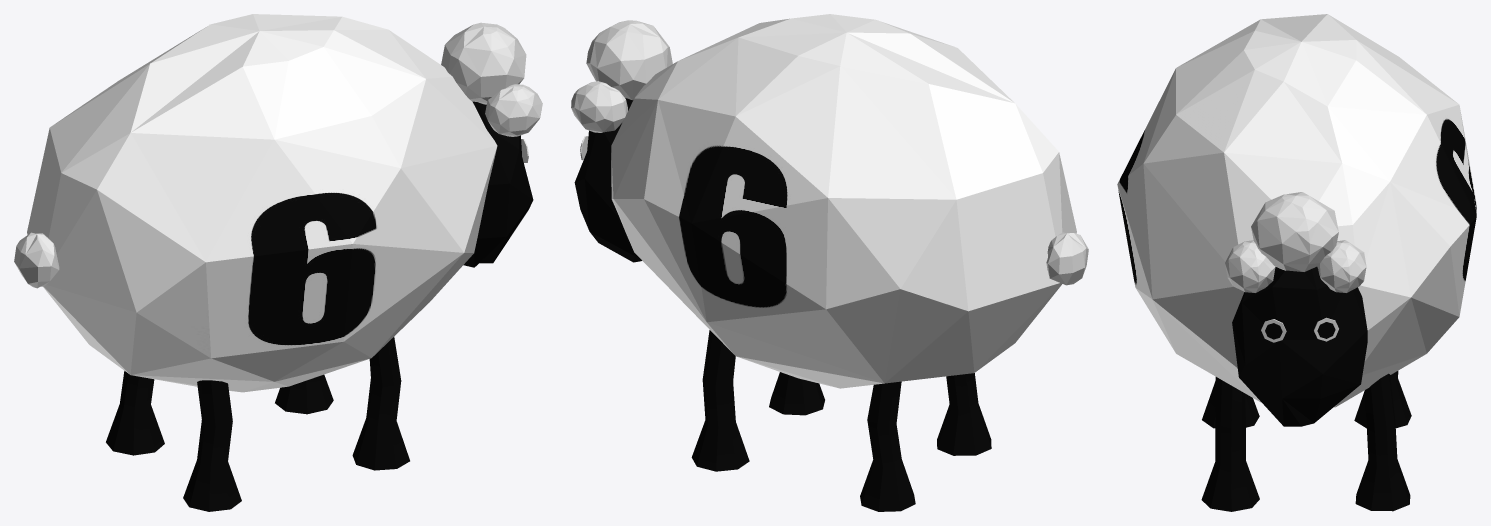
File: sheep6.fbx
3 views of the same model, side by side, from view 1: azimuth 30°, elevation 25°; view 2: azimuth 150°, elevation 25°; view 3: azimuth 270°, elevation 25° (orthographic).
Parts seen in each view (by area): view 1: pSphere1, pSphere7, pSphere4, pCylinder1, pCylinder5, pCylinder7, pSphere8, pSphere3, pCylinder6; view 2: pSphere1, pCylinder6, pSphere7, pCylinder7, pSphere4, pCylinder1, pSphere9, pSphere3, pCylinder5; view 3: pSphere1, pSphere4, pSphere7, pCylinder5, pCylinder6, pSphere8, pSphere9, pCylinder7, pCylinder1.
Boxes of the visible parts, x1=… form: pSphere1: x1=27, y1=14, x2=497, y2=392; pSphere7: x1=441, y1=22, x2=526, y2=104; pSphere4: x1=463, y1=101, x2=533, y2=267; pCylinder1: x1=183, y1=380, x2=241, y2=511; pCylinder5: x1=352, y1=337, x2=409, y2=470; pCylinder7: x1=106, y1=371, x2=164, y2=455; pSphere8: x1=485, y1=84, x2=542, y2=136; pSphere3: x1=14, y1=232, x2=59, y2=288; pCylinder6: x1=275, y1=374, x2=333, y2=414; pSphere1: x1=611, y1=14, x2=1076, y2=388; pCylinder6: x1=691, y1=330, x2=749, y2=471; pSphere7: x1=586, y1=20, x2=672, y2=100; pCylinder7: x1=860, y1=381, x2=915, y2=511; pSphere4: x1=574, y1=98, x2=641, y2=262; pCylinder1: x1=937, y1=373, x2=991, y2=455; pSphere9: x1=571, y1=81, x2=627, y2=132; pSphere3: x1=1046, y1=232, x2=1088, y2=285; pCylinder5: x1=769, y1=372, x2=824, y2=415; pSphere1: x1=1117, y1=14, x2=1476, y2=407; pSphere4: x1=1232, y1=266, x2=1367, y2=426; pSphere7: x1=1251, y1=192, x2=1338, y2=271; pCylinder5: x1=1201, y1=378, x2=1259, y2=511; pCylinder6: x1=1355, y1=373, x2=1410, y2=511; pSphere8: x1=1225, y1=240, x2=1275, y2=292; pSphere9: x1=1317, y1=240, x2=1366, y2=292; pCylinder7: x1=1354, y1=371, x2=1411, y2=428; pCylinder1: x1=1202, y1=377, x2=1259, y2=428.
Bounding box in the file's own units: 3.08 × 2.46 × 1.93.
Materials: 3 (1 with a texture image).
